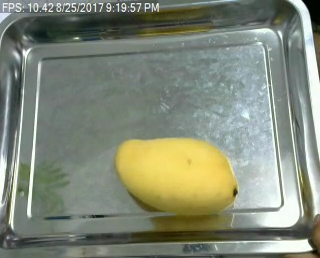Mango: (112, 133, 239, 218)
